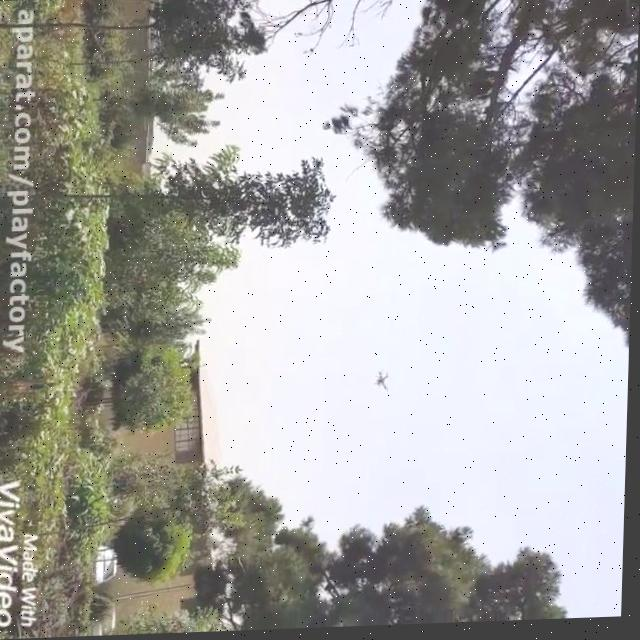drone: (376, 369, 402, 396)
